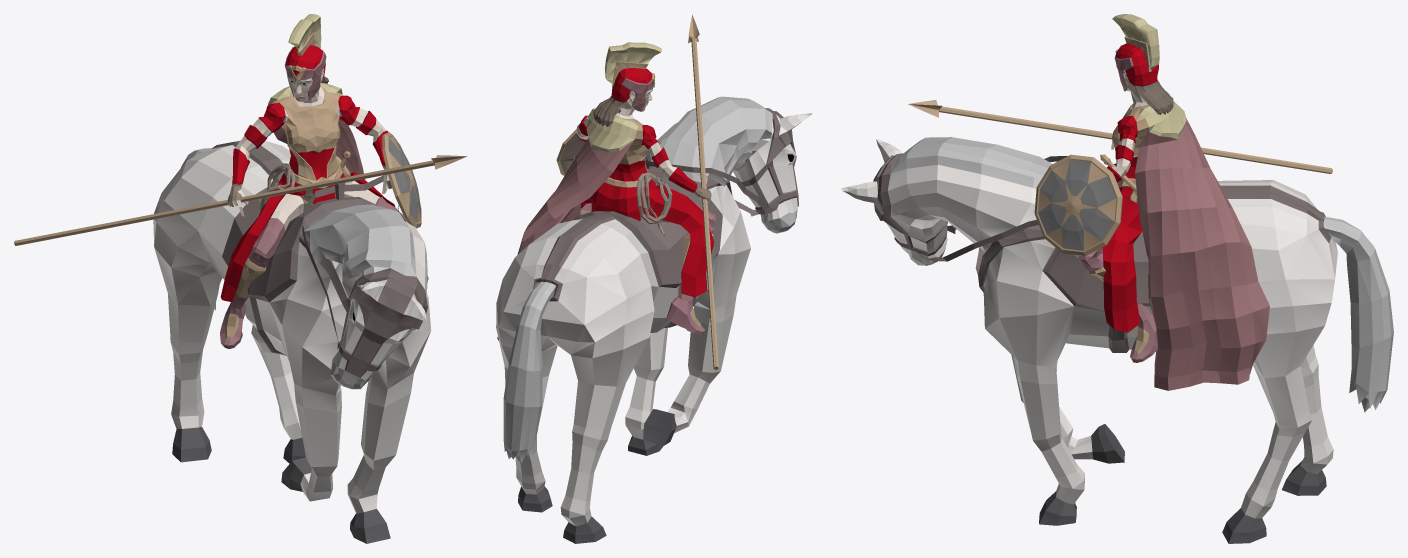
Rendered from Menalippe.fbx.
3 views of the same model, side by side, from view 1: azimuth 30°, elevation 25°; view 2: azimuth 150°, elevation 25°; view 3: azimuth 270°, elevation 25° (orthographic). The views are drawn at different scales.
Parts seen in each view (by area): view 1: Menalippe; view 2: Menalippe; view 3: Menalippe.
Boxes of the visible parts, x1,y1,x2,y2 form: Menalippe: (14,14,467,543); Menalippe: (496,14,812,543); Menalippe: (841,14,1393,543).
Bounding box in the file's own units: 164 × 261 × 267.
